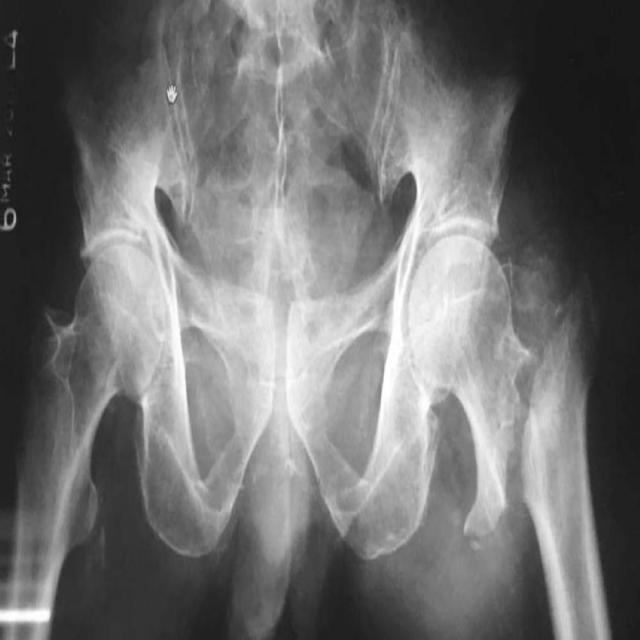left-intertrochanteric: (408, 234, 535, 537), (520, 275, 612, 639)
normal-right: (7, 242, 166, 638)
